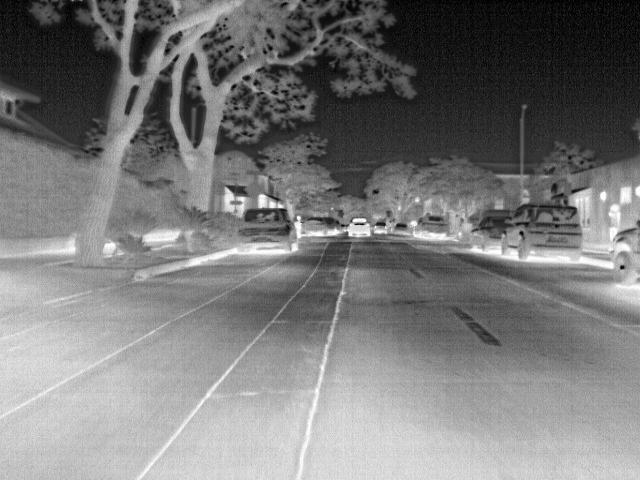car: (501, 200, 586, 262), (237, 207, 296, 252), (609, 222, 640, 286), (472, 209, 514, 254), (412, 213, 451, 239), (304, 216, 330, 237), (346, 219, 372, 238), (392, 221, 412, 239), (321, 216, 339, 234), (372, 222, 391, 236)
person: (292, 214, 305, 244)
